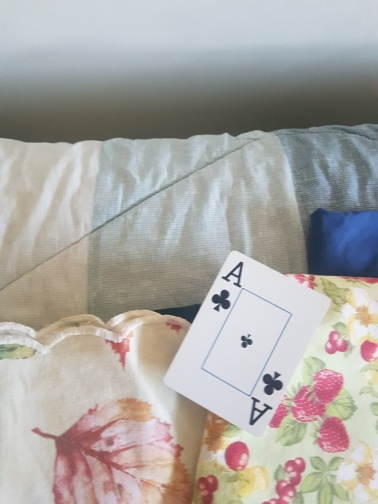ace: (164, 249, 332, 437)
